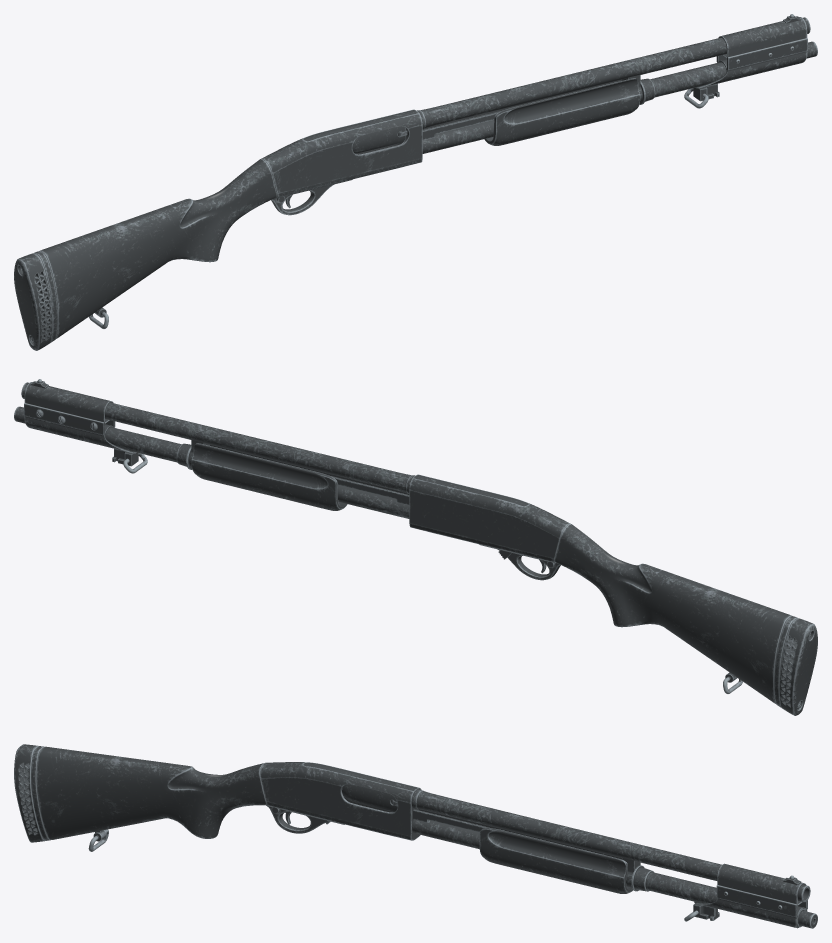
Rendered from shotgun.glb.
3 renders of one model, top to bottom at view 1: azimuth 30°, elevation 25°; view 2: azimuth 150°, elevation 25°; view 3: azimuth 330°, elevation 25°, orthographic.
Visible parts, largest first — view 1: c_low, shellBox_low, upperBarrel_low, m_low, dd_low, a_low, lowerBarrel_low, aa_low, rail_low, k_low, triggerBox_low; view 2: c_low, shellBox_low, upperBarrel_low, m_low, dd_low, a_low, lowerBarrel_low, aa_low, rail_low; view 3: c_low, shellBox_low, upperBarrel_low, m_low, dd_low, lowerBarrel_low, a_low, aa_low, rail_low, k_low, b_low, triggerBox_low (+1 smaller).
Boxes of the visible parts, bbox=[...] form: c_low: bbox=[39, 159, 277, 338]; shellBox_low: bbox=[261, 109, 422, 197]; upperBarrel_low: bbox=[417, 17, 810, 128]; m_low: bbox=[484, 78, 640, 145]; dd_low: bbox=[695, 17, 807, 88]; a_low: bbox=[14, 253, 52, 350]; lowerBarrel_low: bbox=[422, 41, 817, 153]; aa_low: bbox=[716, 38, 807, 70]; rail_low: bbox=[422, 85, 597, 140]; k_low: bbox=[352, 126, 405, 153]; triggerBox_low: bbox=[271, 179, 352, 215]; c_low: bbox=[554, 524, 792, 703]; shellBox_low: bbox=[409, 474, 570, 562]; upperBarrel_low: bbox=[21, 382, 414, 493]; m_low: bbox=[191, 443, 347, 510]; dd_low: bbox=[24, 382, 136, 453]; a_low: bbox=[779, 618, 817, 715]; lowerBarrel_low: bbox=[14, 406, 409, 518]; aa_low: bbox=[24, 403, 115, 435]; rail_low: bbox=[234, 450, 409, 505]; c_low: bbox=[36, 746, 266, 839]; shellBox_low: bbox=[260, 762, 421, 840]; upperBarrel_low: bbox=[411, 789, 810, 902]; m_low: bbox=[479, 828, 633, 893]; dd_low: bbox=[694, 863, 807, 928]; lowerBarrel_low: bbox=[412, 819, 817, 928]; a_low: bbox=[14, 744, 44, 842]; aa_low: bbox=[716, 885, 807, 917]; rail_low: bbox=[413, 809, 604, 854]; k_low: bbox=[342, 784, 397, 811]; b_low: bbox=[31, 746, 50, 840]; triggerBox_low: bbox=[266, 805, 344, 833].
Size of the model in its own units: 1281 by 232 by 55.8.
2 materials, 2 textured.
